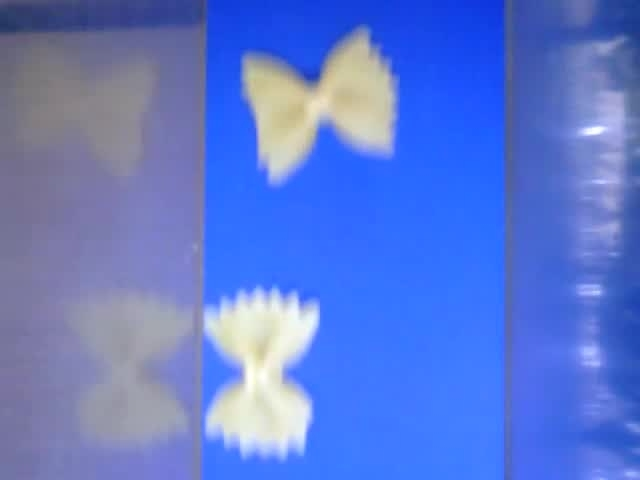farfalle: (240, 28, 400, 184), (202, 285, 321, 459)
